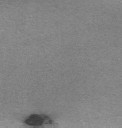iron sheet ash: (23, 114, 53, 128)
